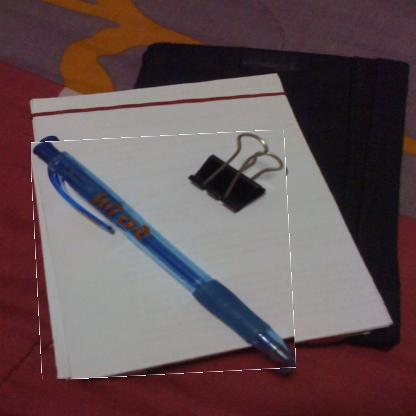Pen: (33, 133, 293, 377)
